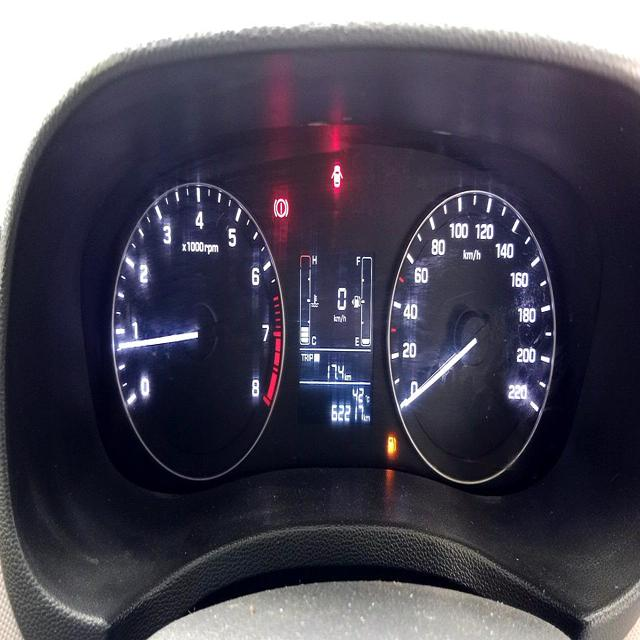odometer: (328, 401, 366, 425)
